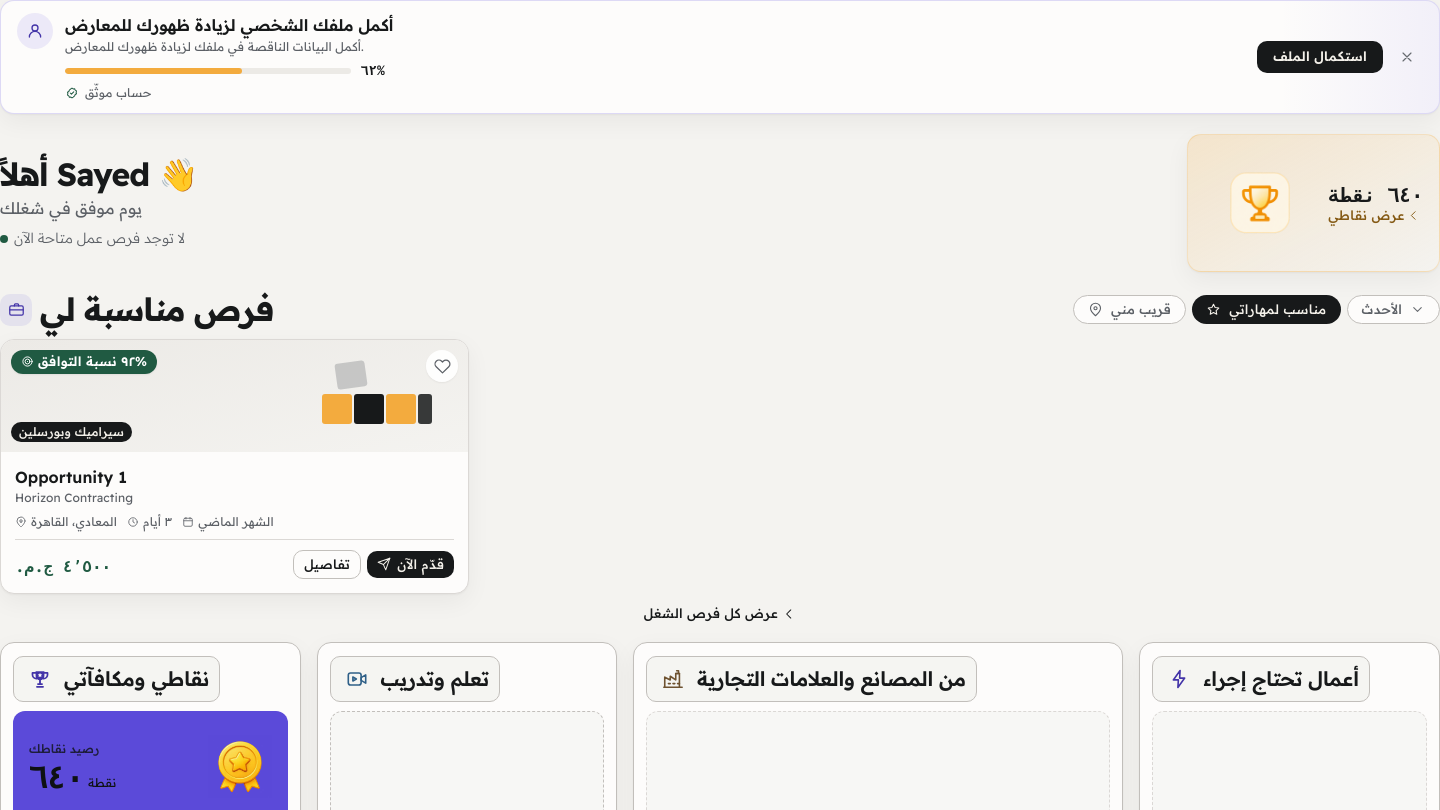
installer dashboard — the card has TWO separate actions › is worded in Arabic: the title, the level and every reason
The width and height of the screenshot is (1440, 810).
Click the button with test id "match-badge" at (84, 362), box x1=11 y1=350 x2=157 y2=374
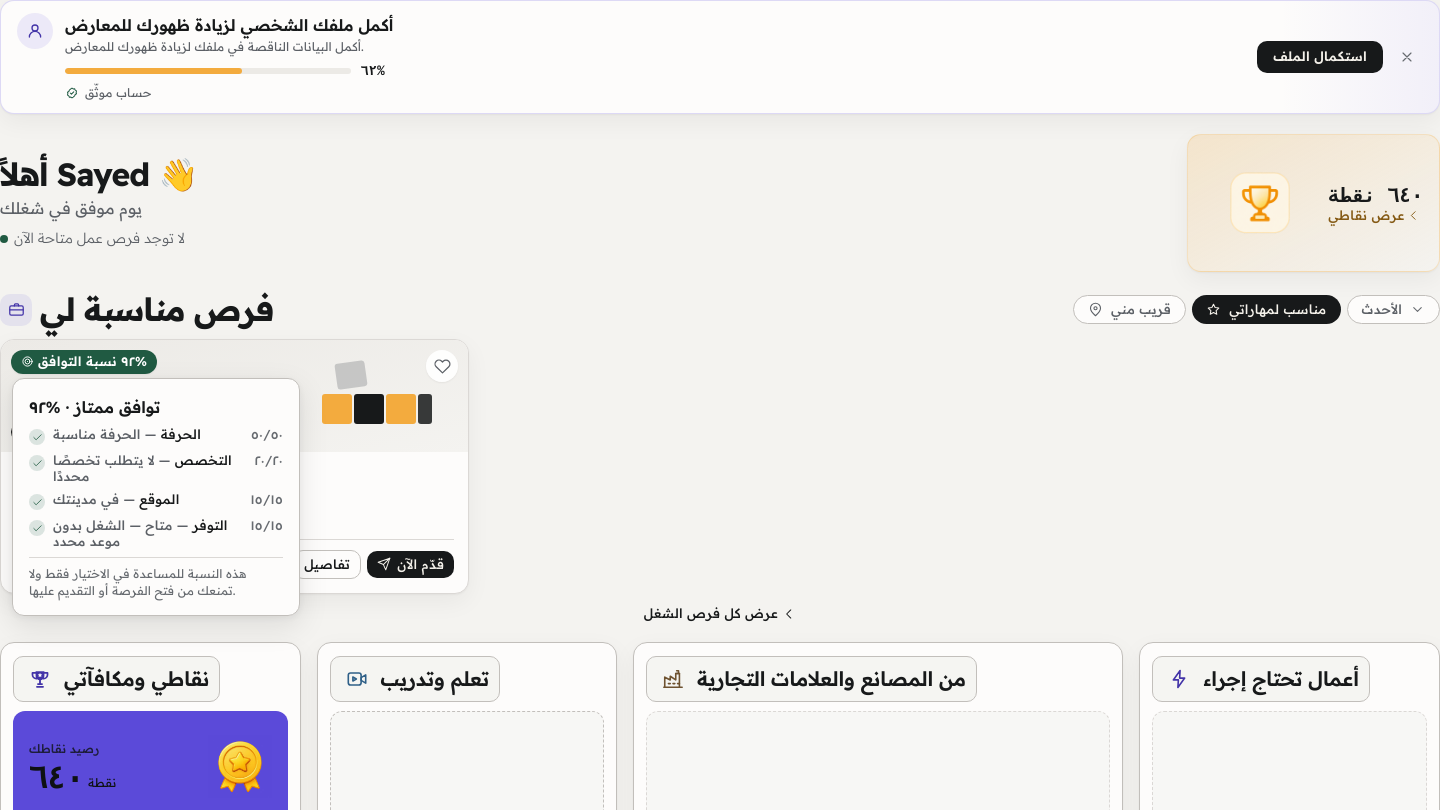
Result: the dialog with test id "match-breakdown" shows "توافق ممتاز" at x1=74 y1=397 x2=160 y2=417
Result: the list item with test id "match-line-trade" shows "الحرفة مناسبة" at x1=53 y1=426 x2=141 y2=442
